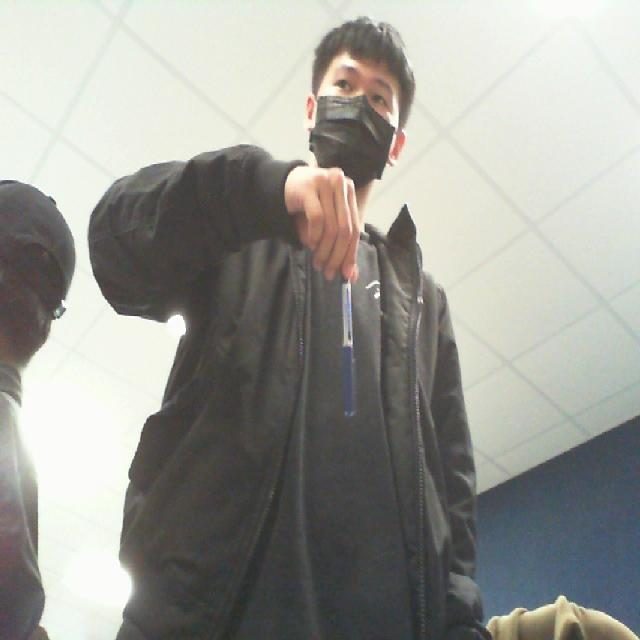Pen: (316, 268, 370, 448)
